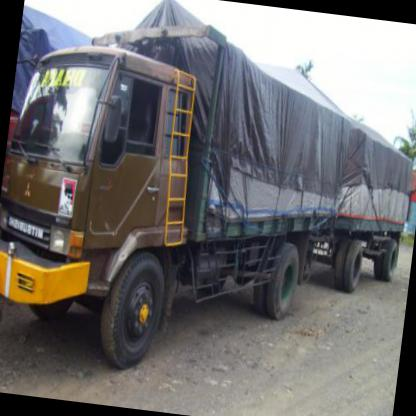truck: (1, 34, 205, 377)
